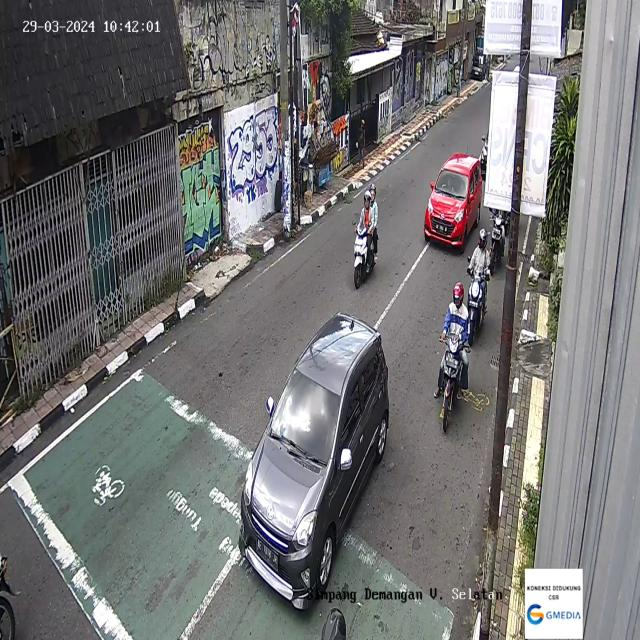car: (238, 311, 390, 611), (424, 151, 482, 254)
motorcycle: (437, 284, 469, 433), (466, 228, 490, 346), (352, 184, 378, 290), (488, 208, 506, 274)
